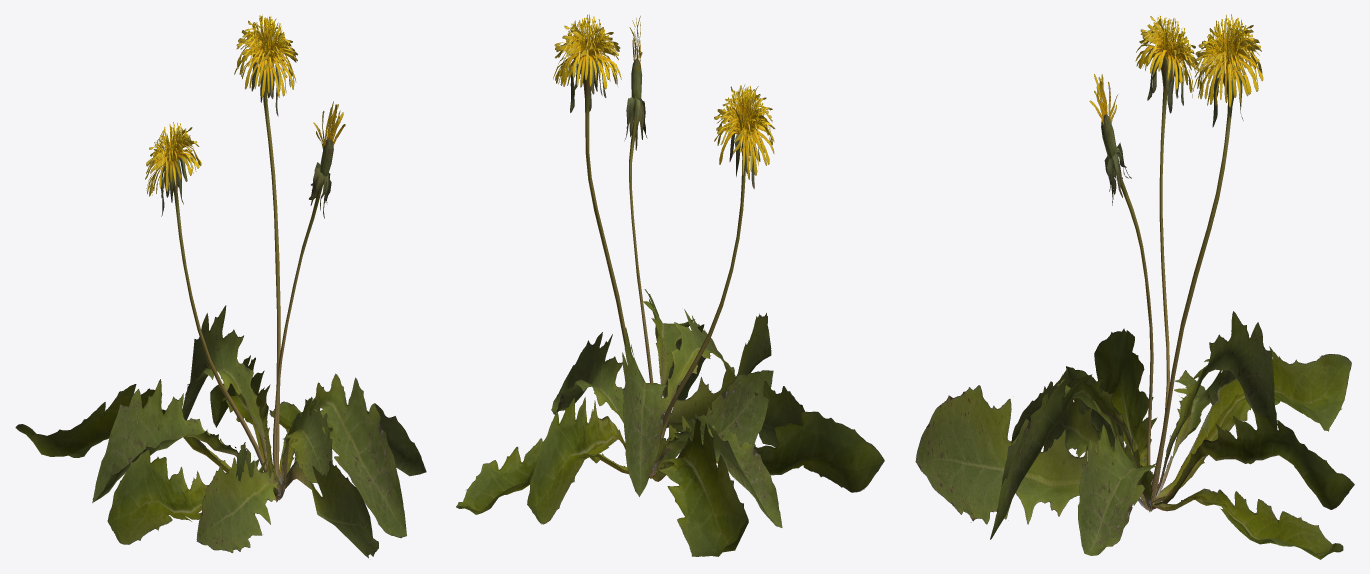
File: dandelion_01_single_1.fbx
3 views of the same model, side by side, from view 1: azimuth 30°, elevation 25°; view 2: azimuth 150°, elevation 25°; view 3: azimuth 270°, elevation 25° (orthographic). The views are drawn at different scales.
Visible parts, largest first — view 1: dandelion_01_single_1; view 2: dandelion_01_single_1; view 3: dandelion_01_single_1.
Part boxes in pixels (x1=…): dandelion_01_single_1: x1=15, y1=14, x2=426, y2=558; dandelion_01_single_1: x1=456, y1=14, x2=884, y2=556; dandelion_01_single_1: x1=915, y1=14, x2=1354, y2=559.
Size of the model in its own units: 0.2017 by 0.2798 by 0.2179.
Materials: 1 (1 with a texture image).
